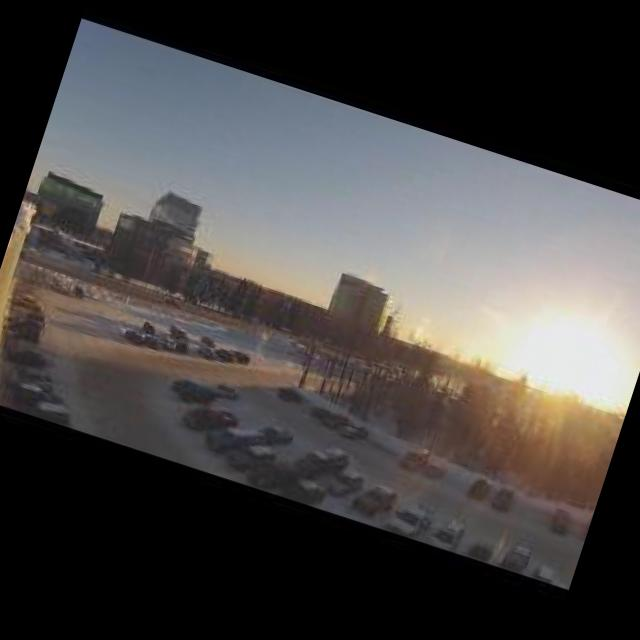smoke: (147, 202, 180, 228)
